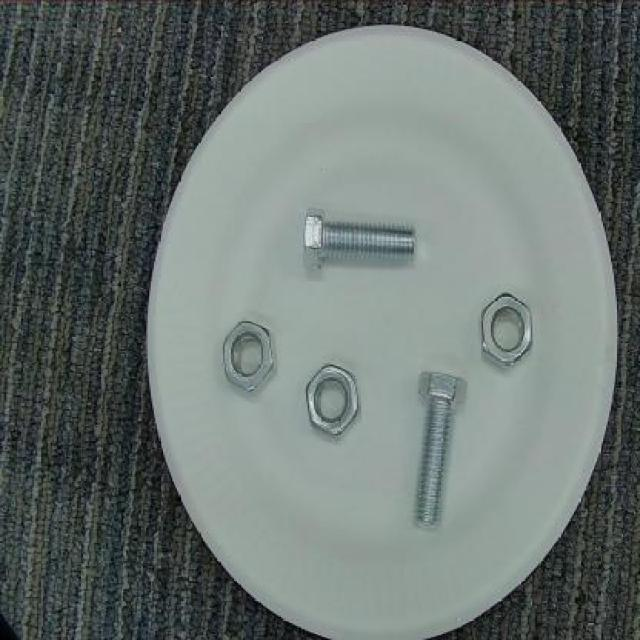Bolt: (410, 370, 468, 532), (299, 208, 419, 275)
Nut: (478, 292, 536, 370), (221, 316, 277, 396), (306, 361, 362, 437)
